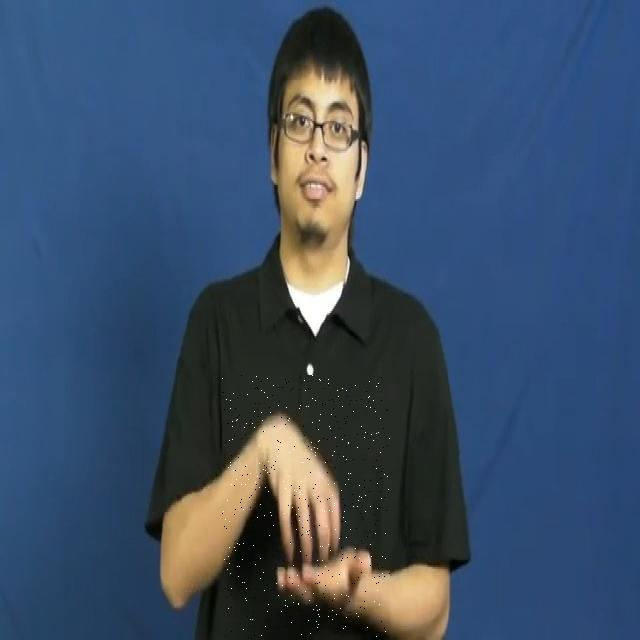cake: (222, 376, 390, 640)
